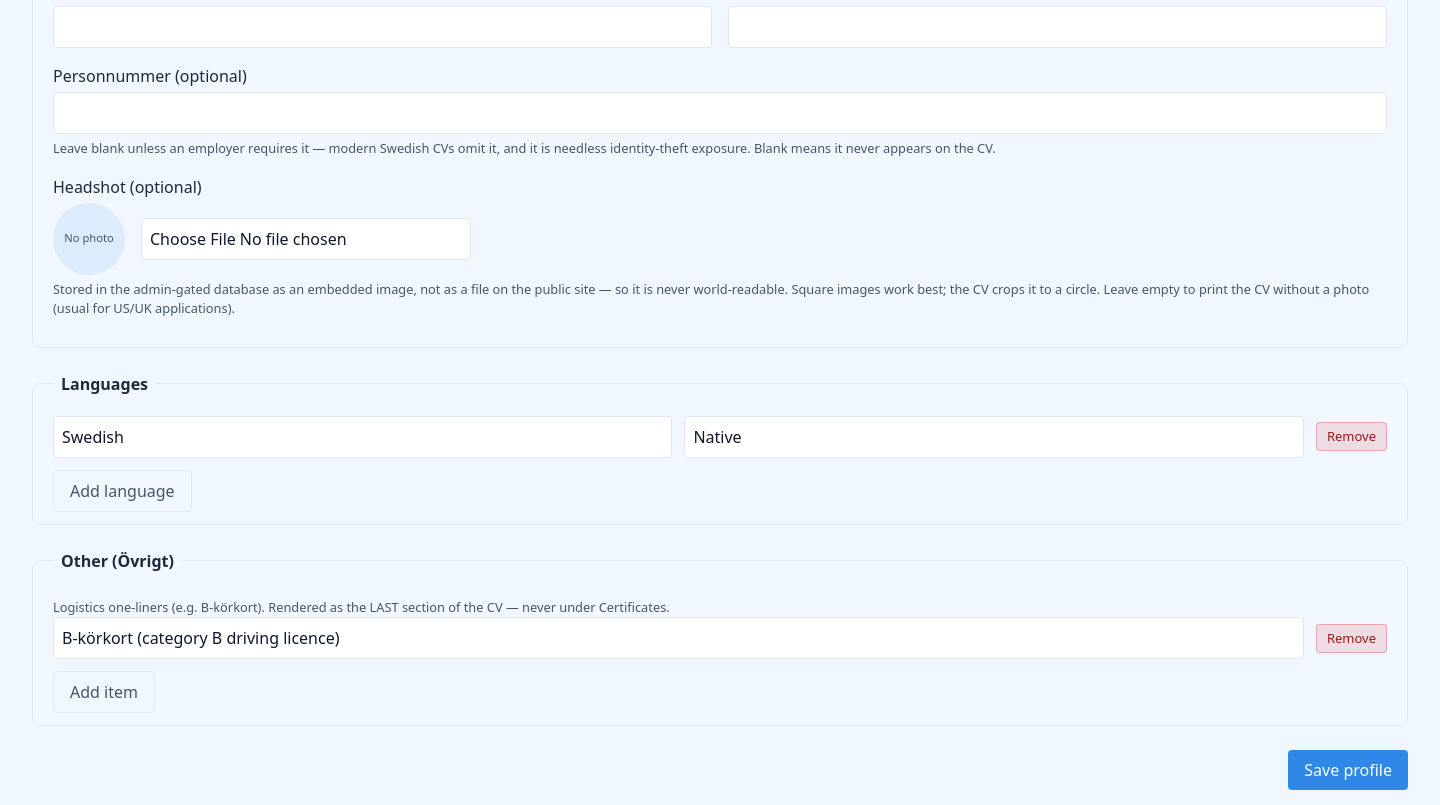
AdminCv › removes a language row
(page scrolled)
Click the 1st button "Remove".
click(1351, 437)  # box [1316, 422, 1387, 451]
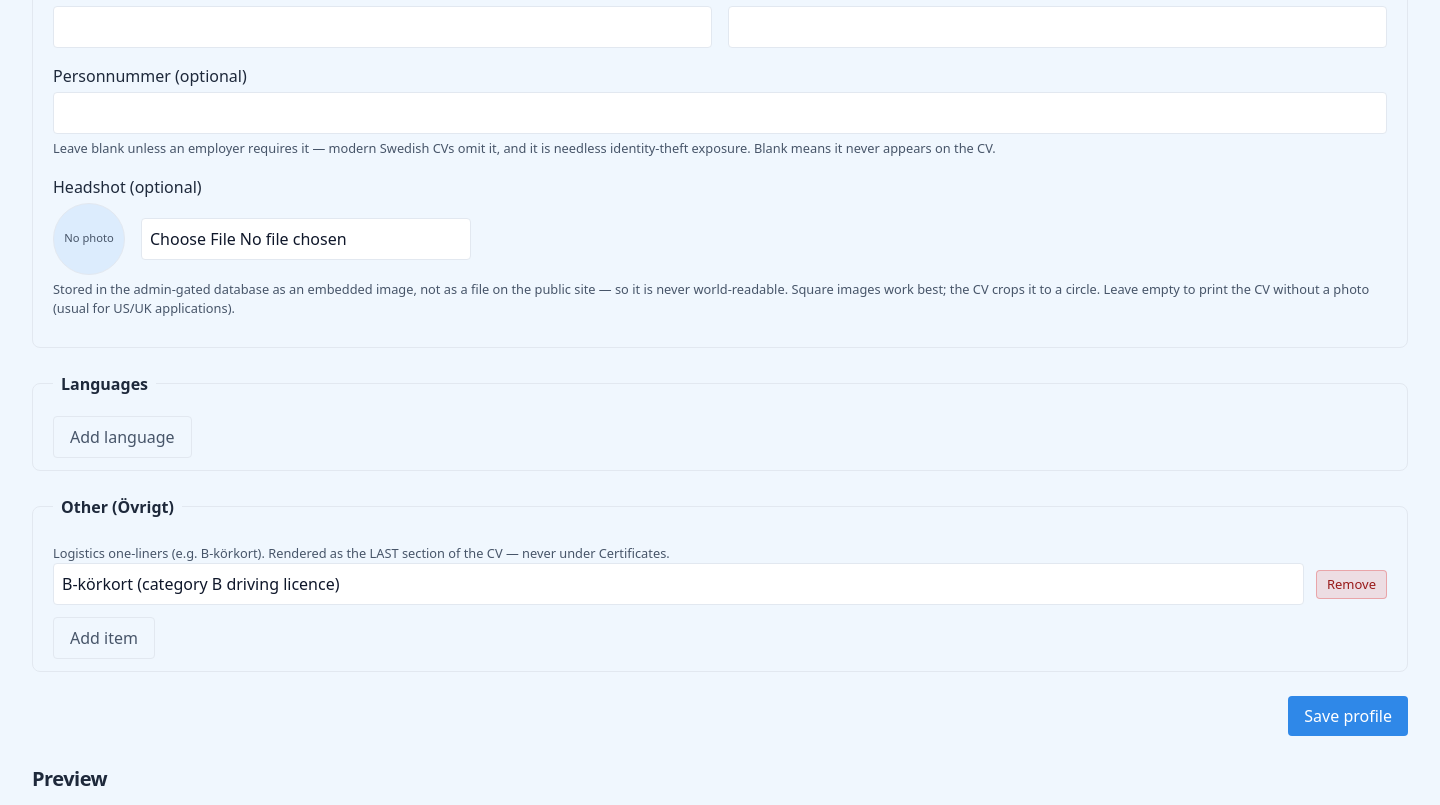
Now no fields with placeholder "Language" are shown
